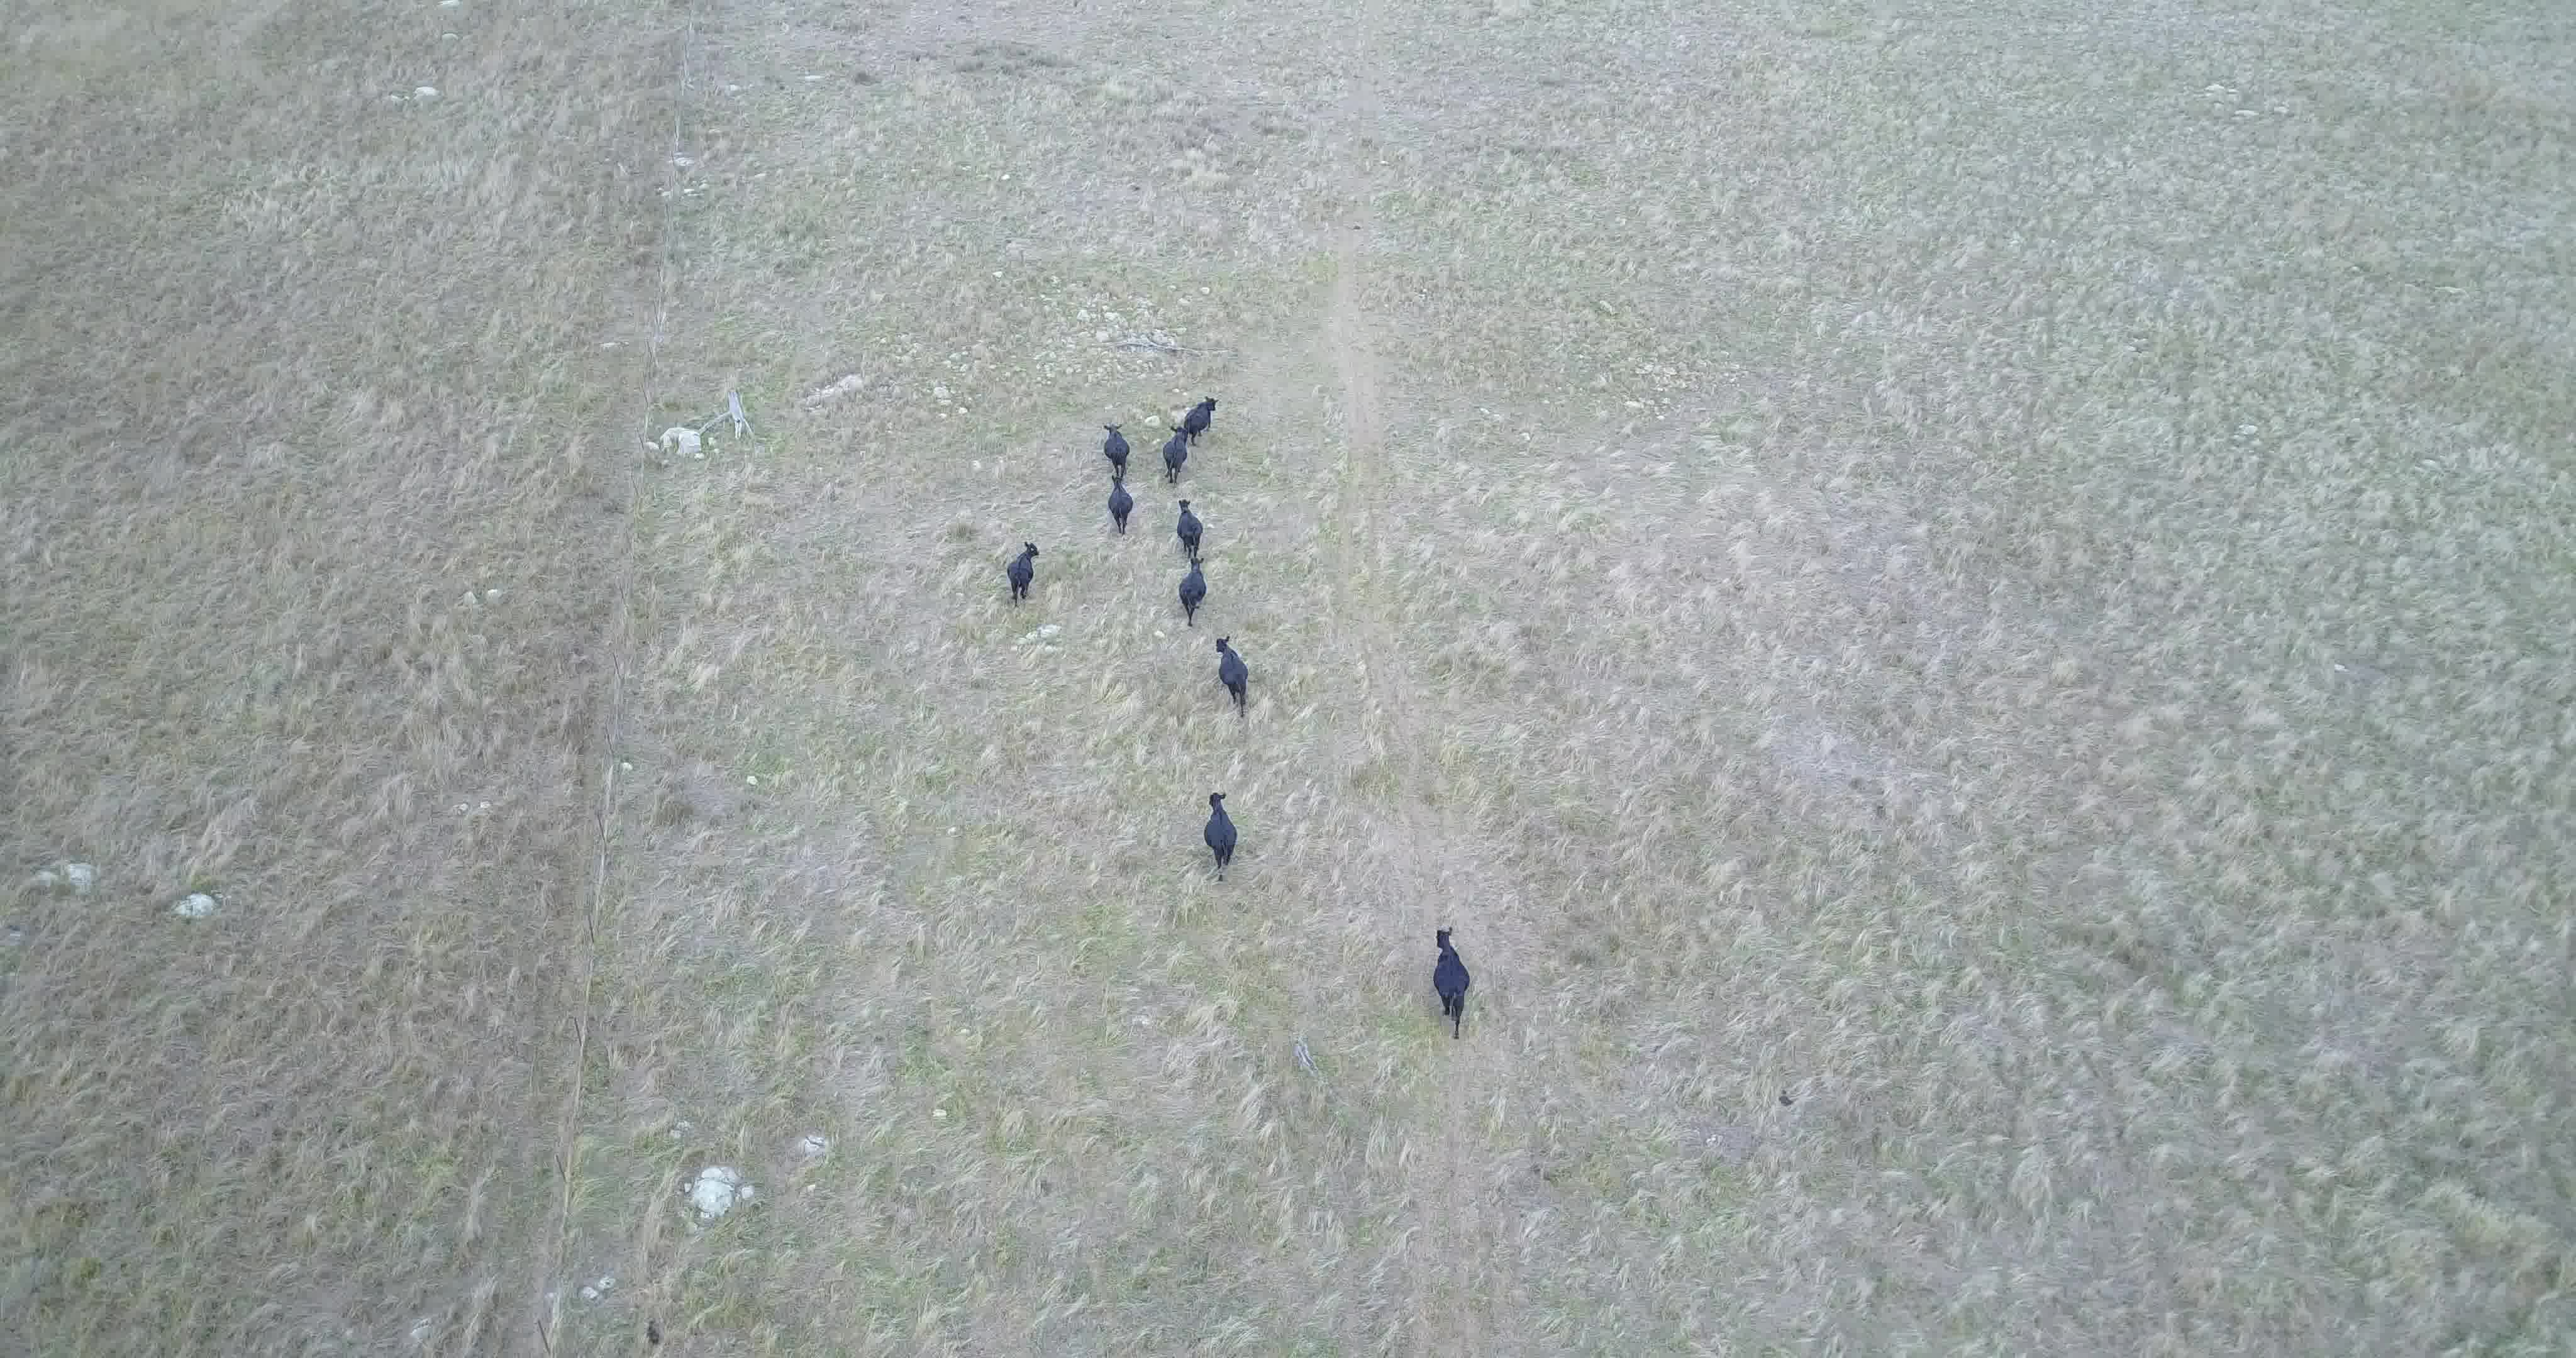cattle: (1423, 922, 1474, 1043), (1201, 789, 1237, 884), (1211, 636, 1251, 719), (1172, 555, 1211, 629), (1003, 540, 1041, 612), (1101, 474, 1136, 545), (1181, 395, 1223, 450), (1160, 424, 1193, 496), (1172, 496, 1205, 564), (1099, 419, 1135, 479)
